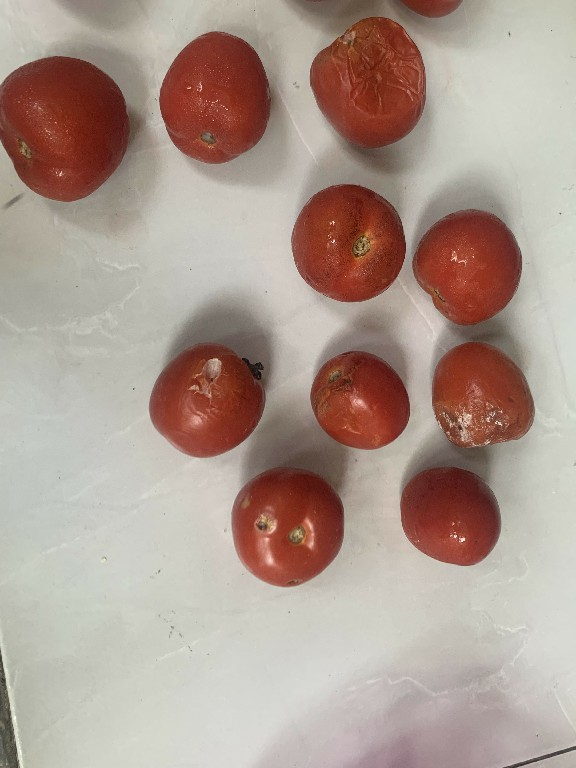NG: (295, 12, 432, 160), (226, 460, 358, 598), (278, 179, 410, 313), (144, 332, 271, 461), (427, 337, 543, 451), (311, 337, 419, 456)
OK: (0, 46, 136, 223), (146, 19, 279, 175), (408, 198, 532, 327), (387, 461, 509, 578)
